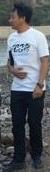boots: (2, 159, 26, 172), (0, 144, 8, 157)
